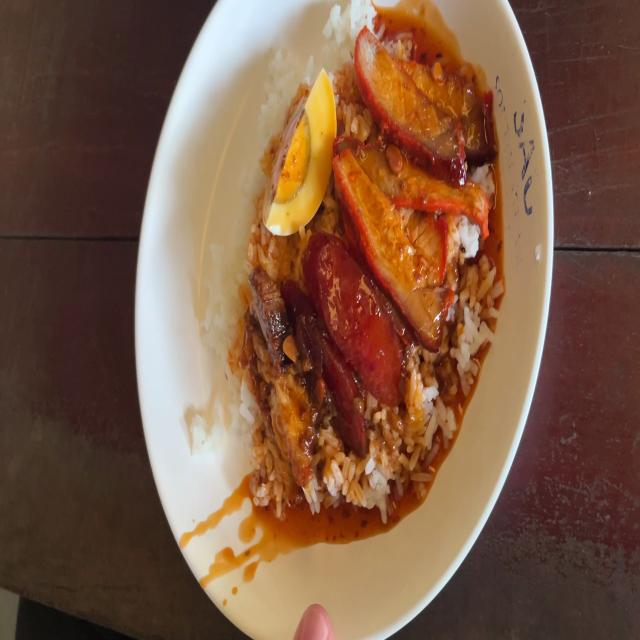red_pork_and_crispy_pork: (263, 70, 335, 230)
stir_fried_basil: (295, 239, 394, 446)
